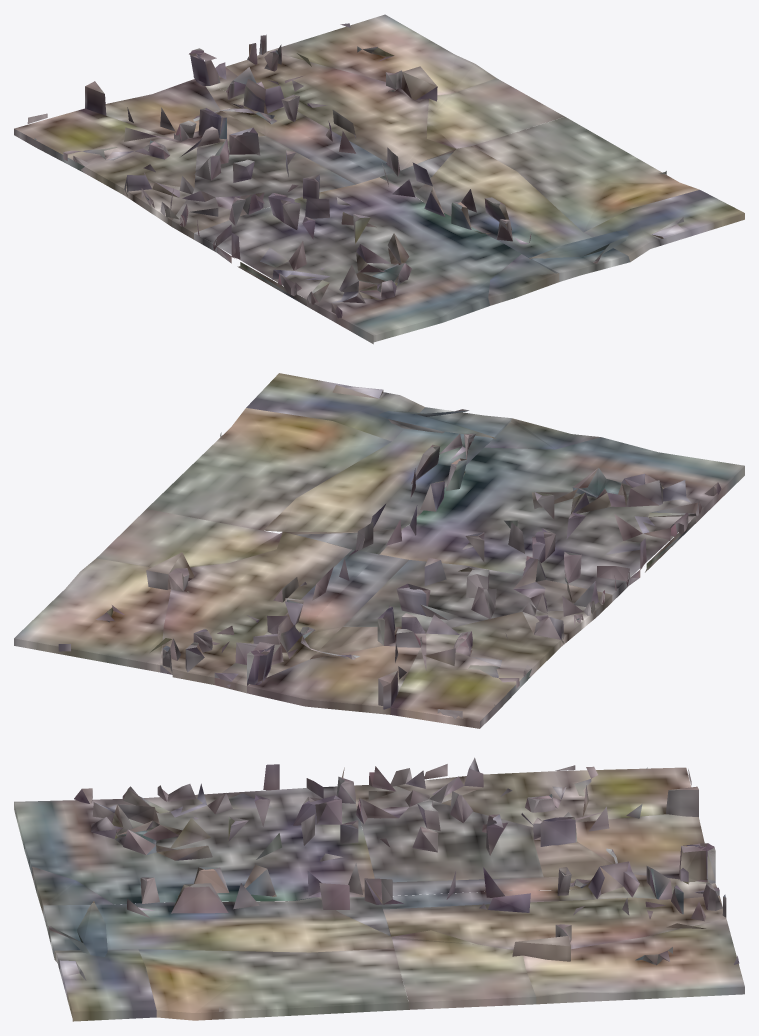
3 renders of one model, top to bottom at view 1: azimuth 30°, elevation 25°; view 2: azimuth 150°, elevation 25°; view 3: azimuth 270°, elevation 25°, orthographic. The views are drawn at different scales.
Visible parts, largest first — view 1: Mesh_0; view 2: Mesh_0; view 3: Mesh_0.
Part boxes in pixels (<box>): Mesh_0: <box>14,14,744,344</box>; Mesh_0: <box>14,373,744,728</box>; Mesh_0: <box>14,757,744,1021</box>.
Bounding box in the file's own units: 1064 × 84.96 × 1318.
1 material, 1 textured.
